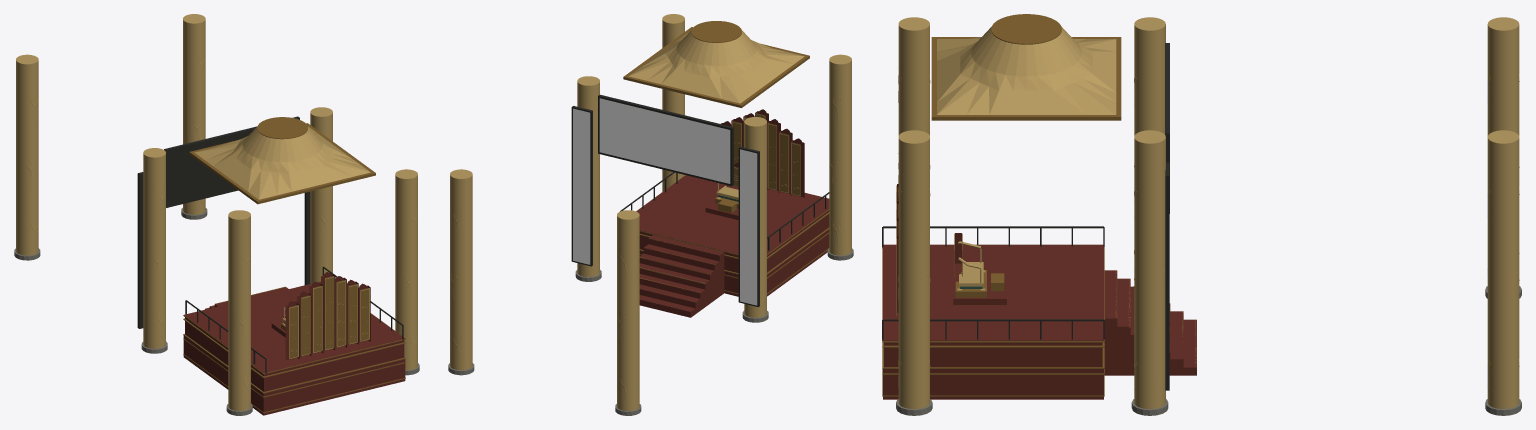
Rendered from taihe-v17-a8e358509558.glb.
The picture shows the model from 3 angles, left to right: view 1: azimuth 30°, elevation 25°; view 2: azimuth 150°, elevation 25°; view 3: azimuth 270°, elevation 25°; orthographic projection. The views are drawn at different scales.
Visible parts, largest first — view 1: merged_taihe_gold, merged_taihe_lacquer, merged_taihe_dark_gold, merged_taihe_dark_wood, merged_taihe_stone; view 2: merged_taihe_gold, merged_taihe_lacquer, merged_taihe_glyph_atlas, merged_taihe_dark_gold, merged_taihe_dark_wood, merged_taihe_stone; view 3: merged_taihe_gold, merged_taihe_lacquer, merged_taihe_dark_gold, merged_taihe_dark_wood, merged_taihe_stone.
Boxes of the visible parts, <box> form: merged_taihe_gold: <box>16,14,417,410</box>; merged_taihe_lacquer: <box>183,272,405,415</box>; merged_taihe_dark_gold: <box>183,117,405,413</box>; merged_taihe_dark_wood: <box>137,116,403,373</box>; merged_taihe_stone: <box>14,208,419,415</box>; merged_taihe_gold: <box>450,14,851,410</box>; merged_taihe_lacquer: <box>636,109,829,317</box>; merged_taihe_glyph_atlas: <box>573,98,757,305</box>; merged_taihe_dark_gold: <box>623,21,829,310</box>; merged_taihe_dark_wood: <box>571,94,829,307</box>; merged_taihe_stone: <box>448,248,853,415</box>; merged_taihe_gold: <box>896,17,1519,409</box>; merged_taihe_lacquer: <box>883,184,1196,399</box>; merged_taihe_dark_gold: <box>882,14,1196,396</box>; merged_taihe_dark_wood: <box>882,43,1169,390</box>; merged_taihe_stone: <box>896,286,1521,415</box>.
Bounding box in the file's own units: 9.63 × 11.27 × 20.25.
